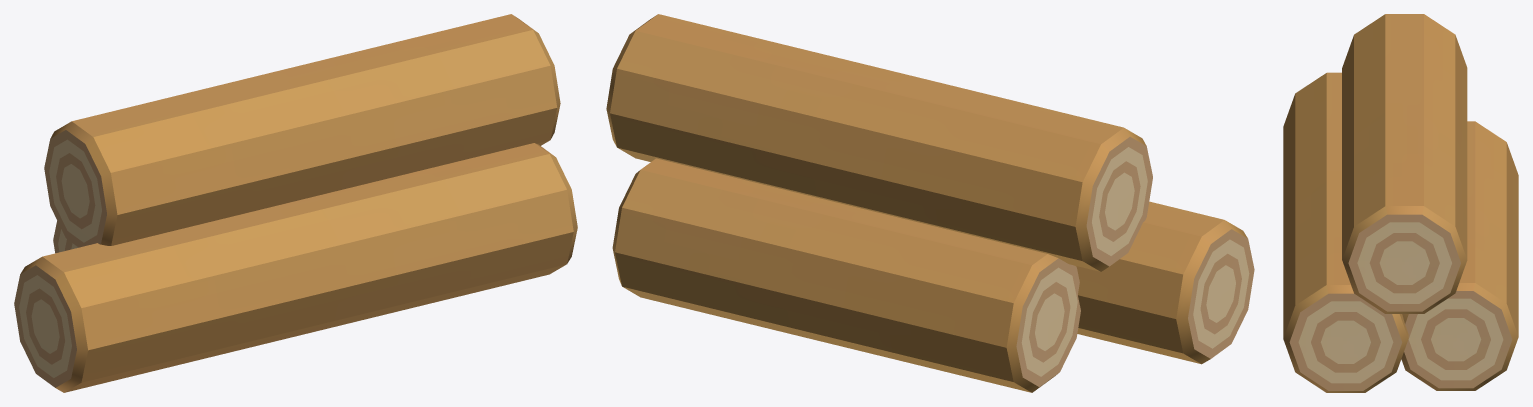
Rendered from LogPile.fbx.
The picture shows the model from 3 angles, left to right: view 1: azimuth 30°, elevation 25°; view 2: azimuth 150°, elevation 25°; view 3: azimuth 270°, elevation 25°; orthographic projection. The views are drawn at different scales.
Visible parts, largest first — view 1: pCylinder33; view 2: pCylinder33; view 3: pCylinder33.
Boxes of the visible parts, x1=… form: pCylinder33: x1=14, y1=14, x2=577, y2=392; pCylinder33: x1=606, y1=14, x2=1254, y2=392; pCylinder33: x1=1283, y1=14, x2=1518, y2=392.
Bounding box in the file's own units: 232 × 95.73 × 102.
